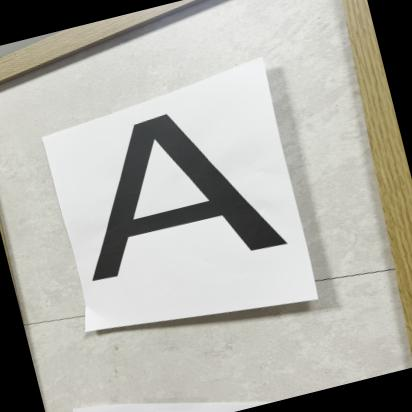seat: (54, 91, 298, 308)
